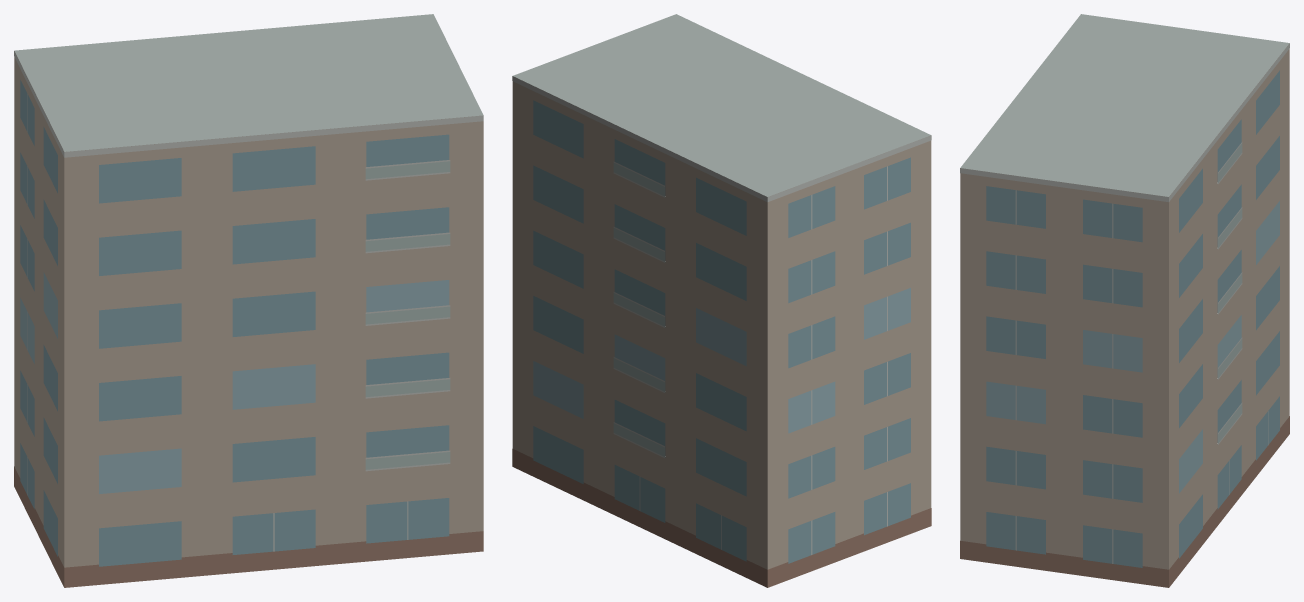
File: survey-upis-32752680.glb
3 views of the same model, side by side, from view 1: azimuth 30°, elevation 25°; view 2: azimuth 150°, elevation 25°; view 3: azimuth 270°, elevation 25° (orthographic). The views are drawn at different scales.
Parts seen in each view (by area): view 1: survey-upis-32752680.tmp; view 2: survey-upis-32752680.tmp; view 3: survey-upis-32752680.tmp.
Part boxes in pixels (x1=…): survey-upis-32752680.tmp: x1=14, y1=14, x2=483, y2=587; survey-upis-32752680.tmp: x1=512, y1=14, x2=931, y2=587; survey-upis-32752680.tmp: x1=960, y1=14, x2=1289, y2=587.
Bounding box in the file's own units: 18.38 × 18.3 × 14.
